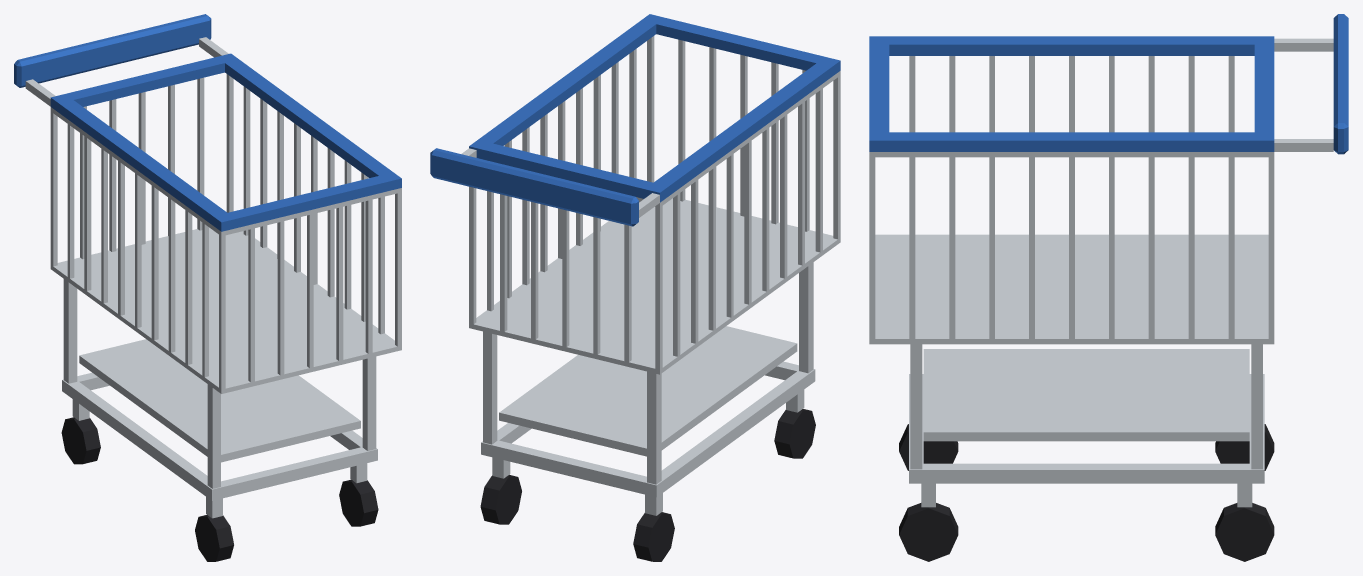
File: cart.glb
The picture shows the model from 3 angles, left to right: view 1: azimuth 30°, elevation 25°; view 2: azimuth 150°, elevation 25°; view 3: azimuth 270°, elevation 25°; orthographic projection. The views are drawn at different scales.
Visible parts, largest first — view 1: cart; view 2: cart; view 3: cart.
Part boxes in pixels (x1,y1,x2,y2): cart: [14, 14, 401, 561]; cart: [430, 14, 840, 561]; cart: [869, 14, 1348, 561].
Size of the model in its own units: 0.54 by 1 by 0.97.
Materials: 1 (1 with a texture image).
